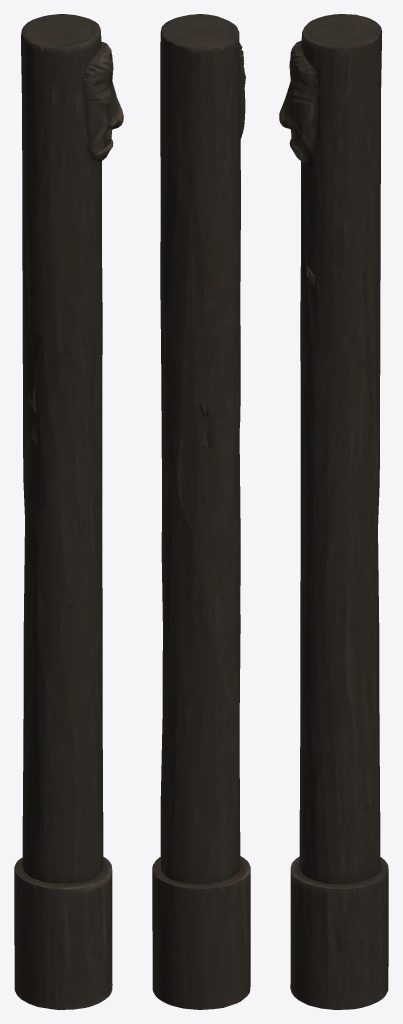
Rendered from signpost.glb.
3 renders of one model, left to right at view 1: azimuth 90°, elevation 25°; view 2: azimuth 150°, elevation 25°; view 3: azimuth 270°, elevation 25°, orthographic.
Bounding box in the file's own units: 0.1761 × 1.9 × 0.1963.
1 material, 1 textured.
